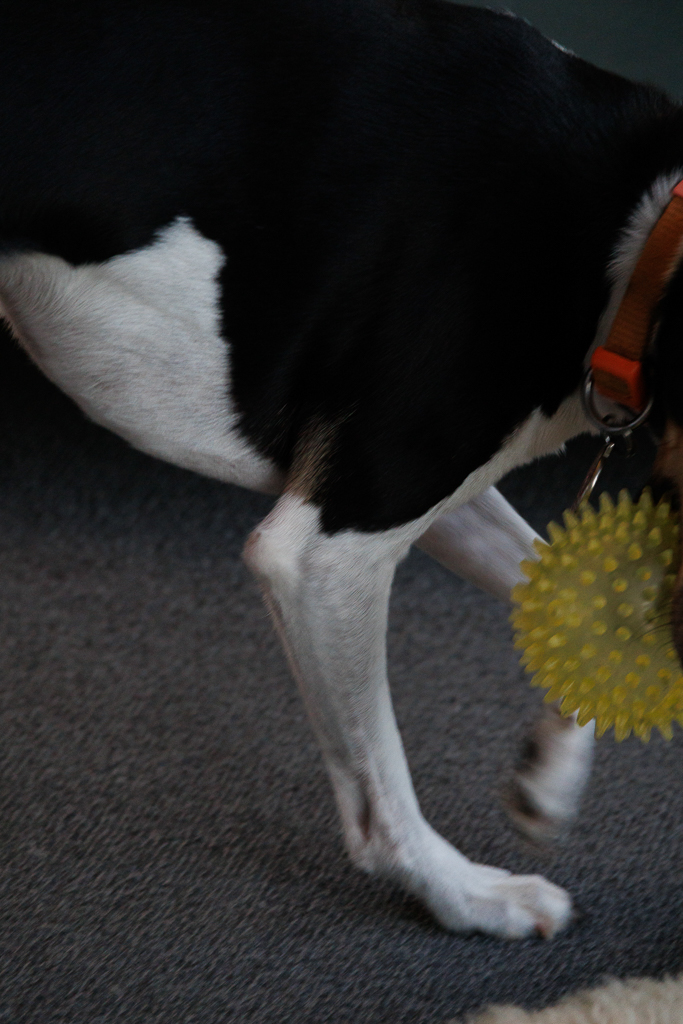Dog: (0, 0, 683, 947)
